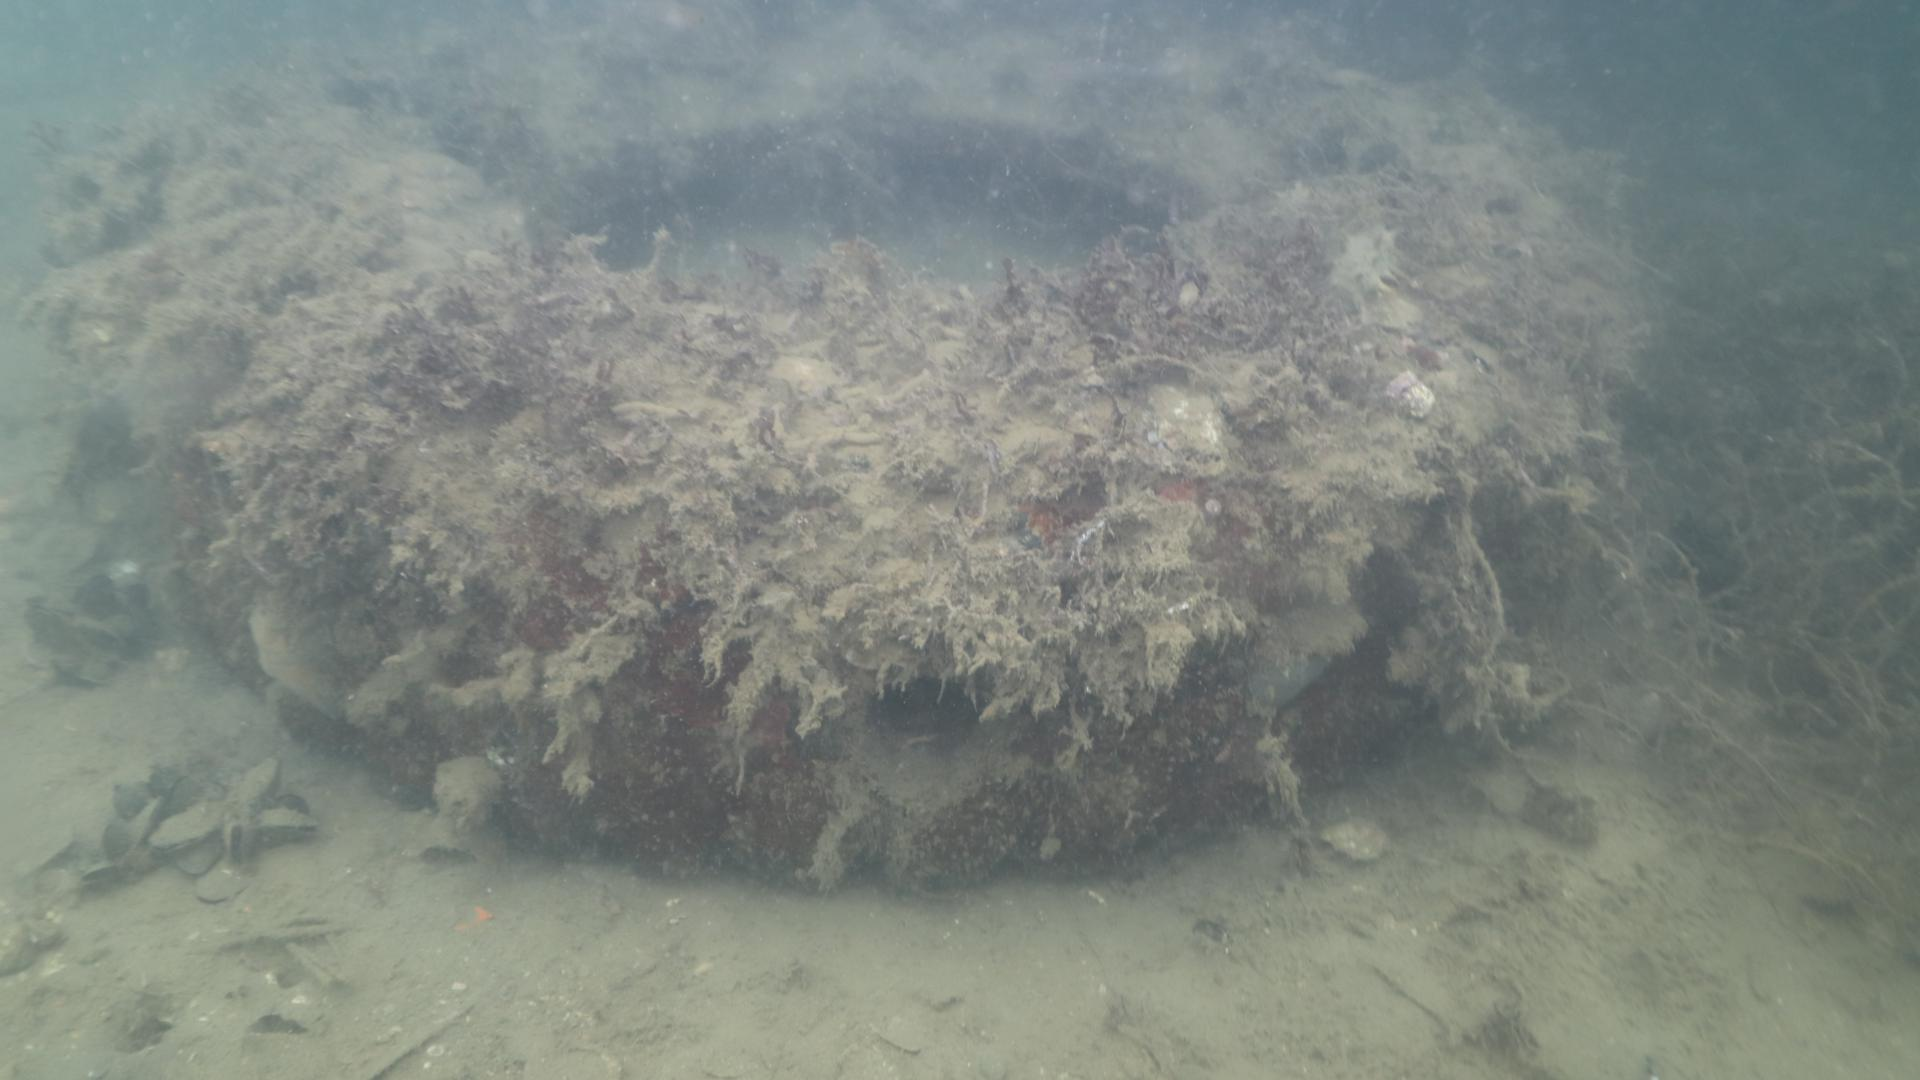tire: (153, 0, 1538, 884)
